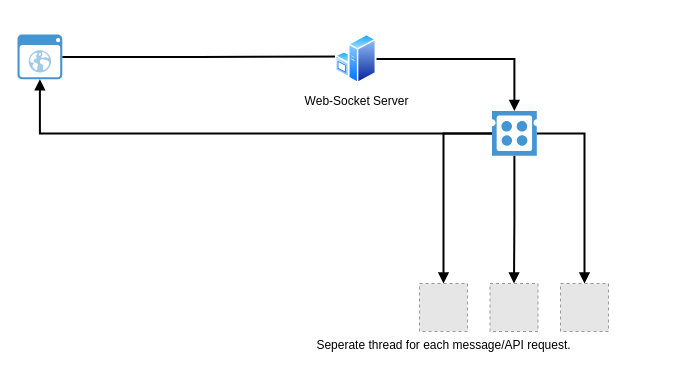
Some shapes in this 698 by 370 pixel diagram are drawn without their labels. Grey dashed boxes stand in for pictures. The shapes that lost their labels are listed below. From the top down, each one's box as (x1, y1, x2, y2) in pixels, then its label:
(17, 34, 62, 79): Browser
(492, 110, 536, 155): Thread for Communication
